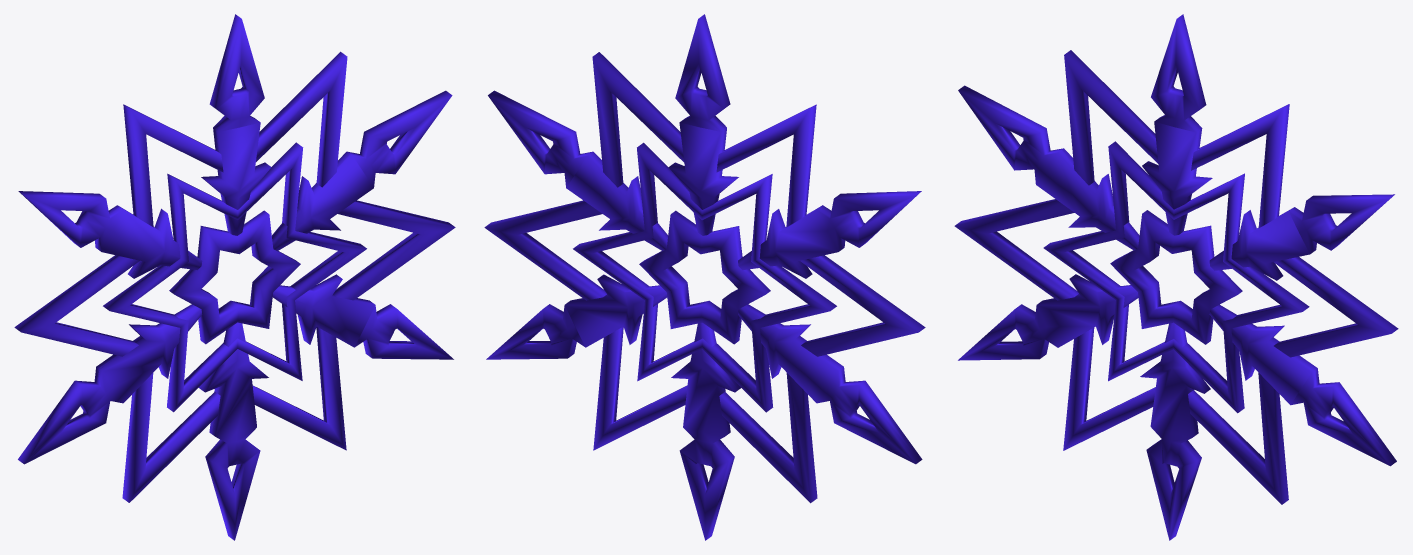
Rendered from SnowFlake4.fbx.
The picture shows the model from 3 angles, left to right: view 1: azimuth 30°, elevation 25°; view 2: azimuth 150°, elevation 25°; view 3: azimuth 330°, elevation 25°; orthographic projection.
Visible parts, largest first — view 1: Plane.003; view 2: Plane.003; view 3: Plane.003.
Boxes of the visible parts, x1,y1,x2,y2 form: Plane.003: (14, 14, 455, 540); Plane.003: (484, 14, 925, 540); Plane.003: (954, 14, 1398, 540).
Bounding box in the file's own units: 13.62 × 15.58 × 0.4724.
